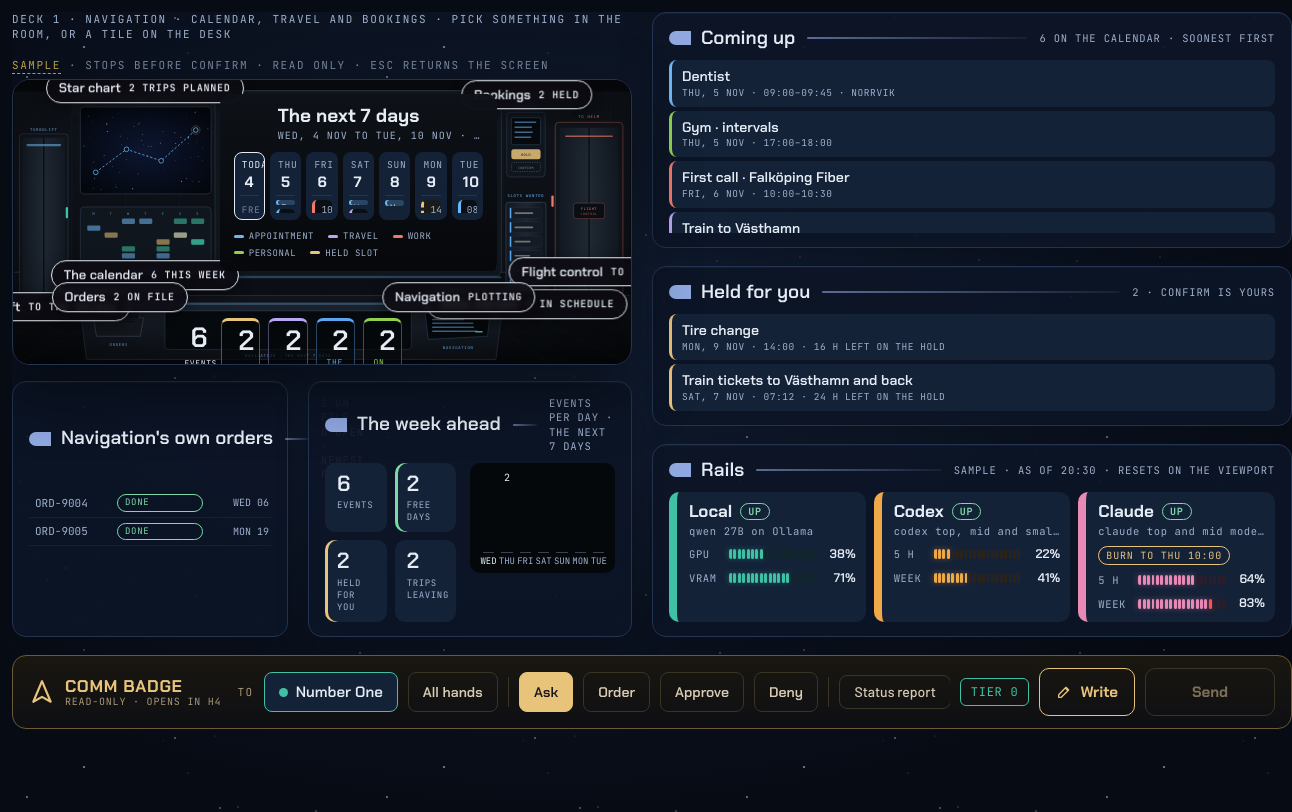
Test: Navigation's post › the booking terminal shows the holds first; Navigation never confirms
Click the button "Bookings 2 HELD" at (527,142), box [504,104,549,180]
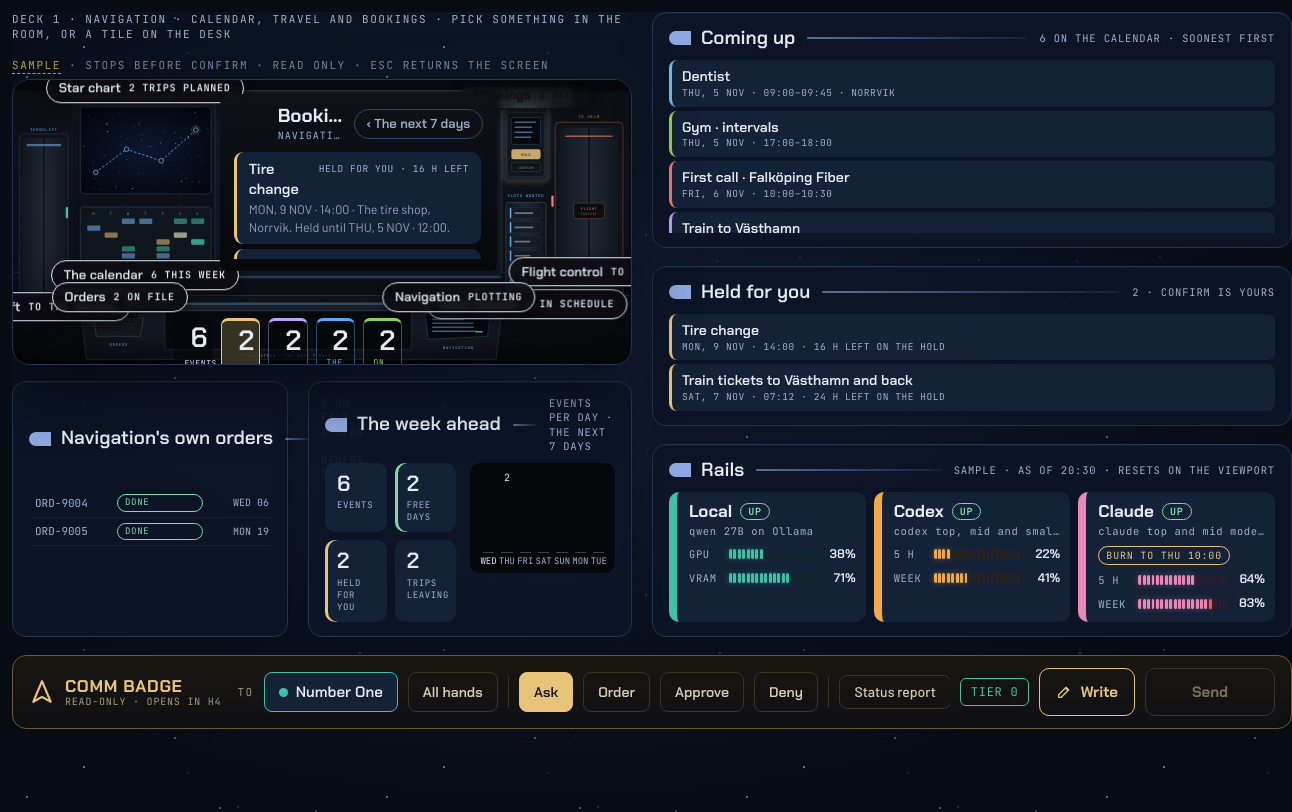
Expected: the text with class "con-title" reads "Bookings · 2 held for you", [278,103,497,128]
